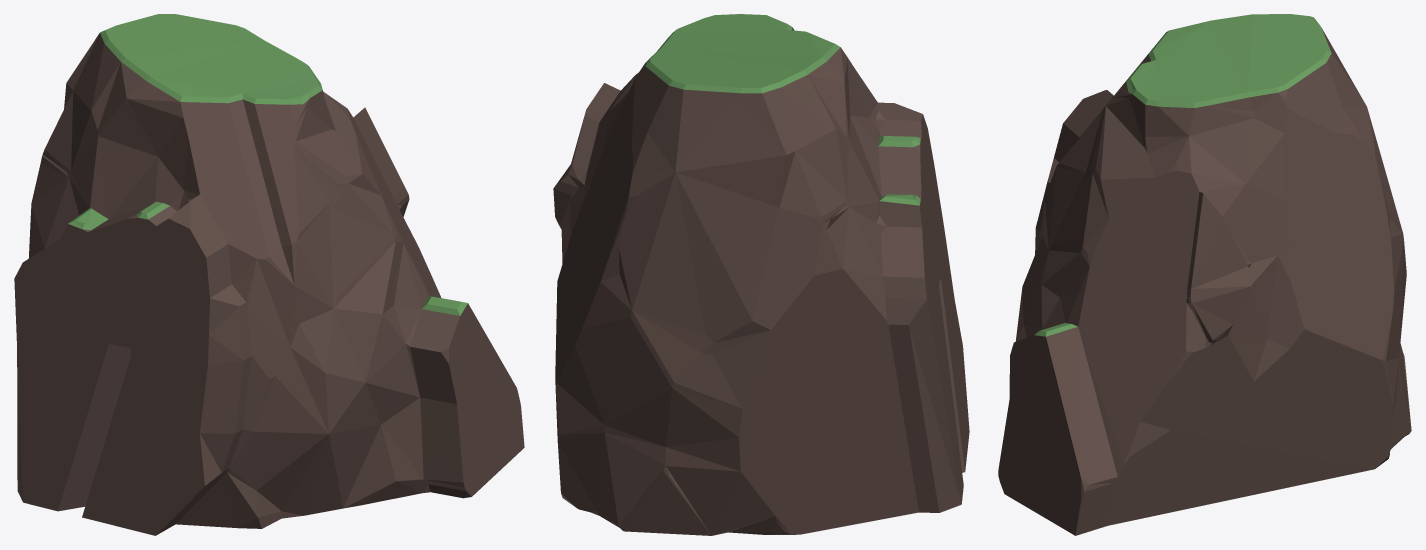
Rendered from Cliff 17.fbx.
3 views of the same model, side by side, from view 1: azimuth 30°, elevation 25°; view 2: azimuth 150°, elevation 25°; view 3: azimuth 270°, elevation 25° (orthographic). The views are drawn at different scales.
Visible parts, largest first — view 1: Cliff 23; view 2: Cliff 23; view 3: Cliff 23.
Part boxes in pixels (x1,y1,x2,y2): Cliff 23: [14, 14, 524, 535]; Cliff 23: [553, 14, 969, 535]; Cliff 23: [998, 14, 1411, 535].
Bounding box in the file's own units: 1.65 × 1.46 × 1.43.
